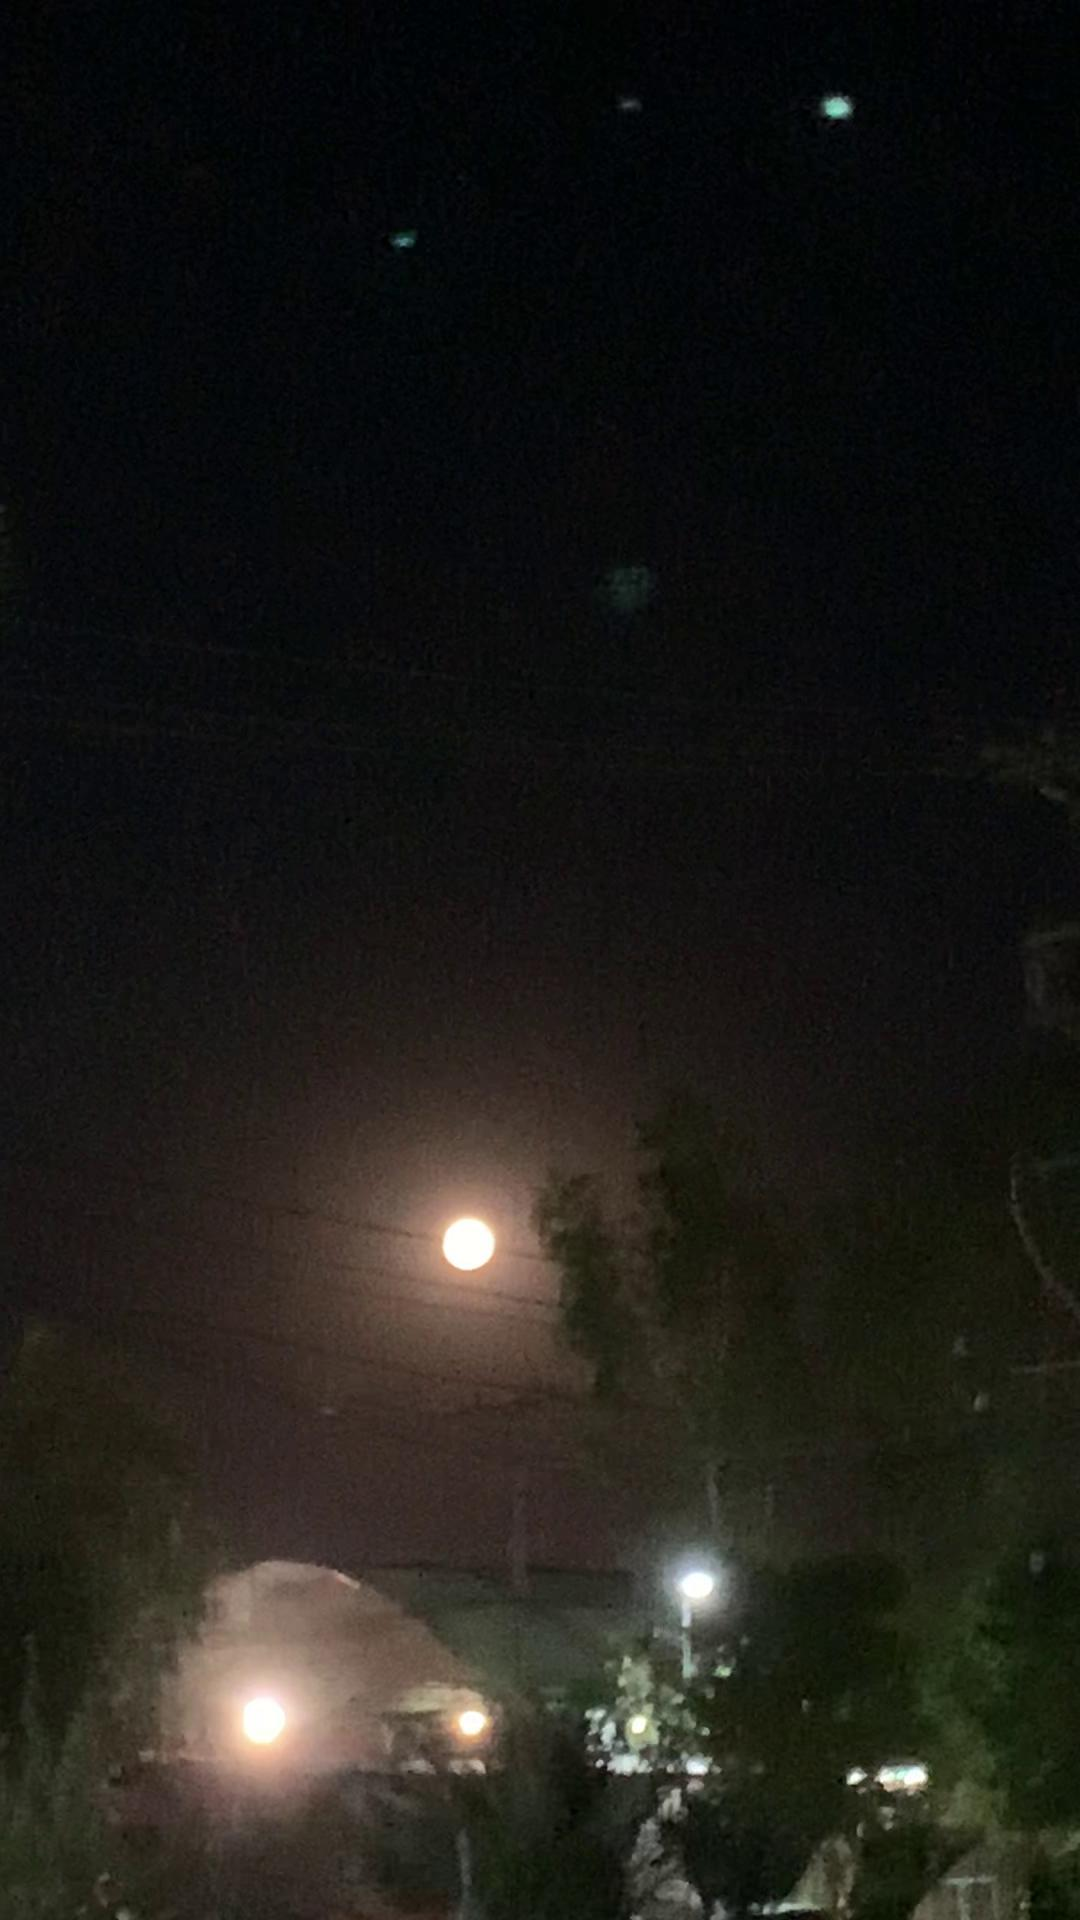moon: (418, 1196, 508, 1273)
